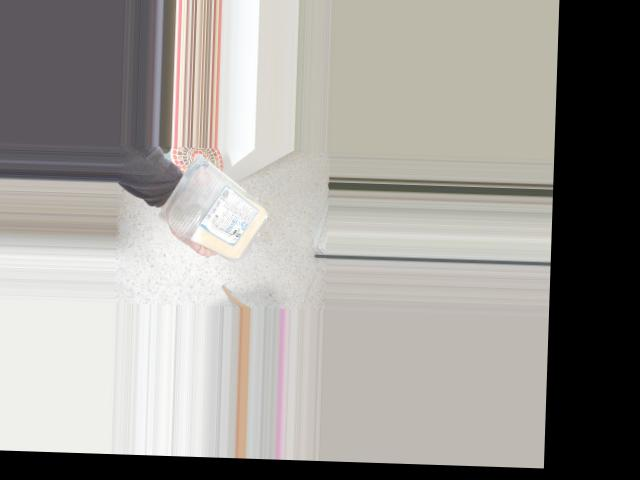cheese: (172, 162, 274, 248)
